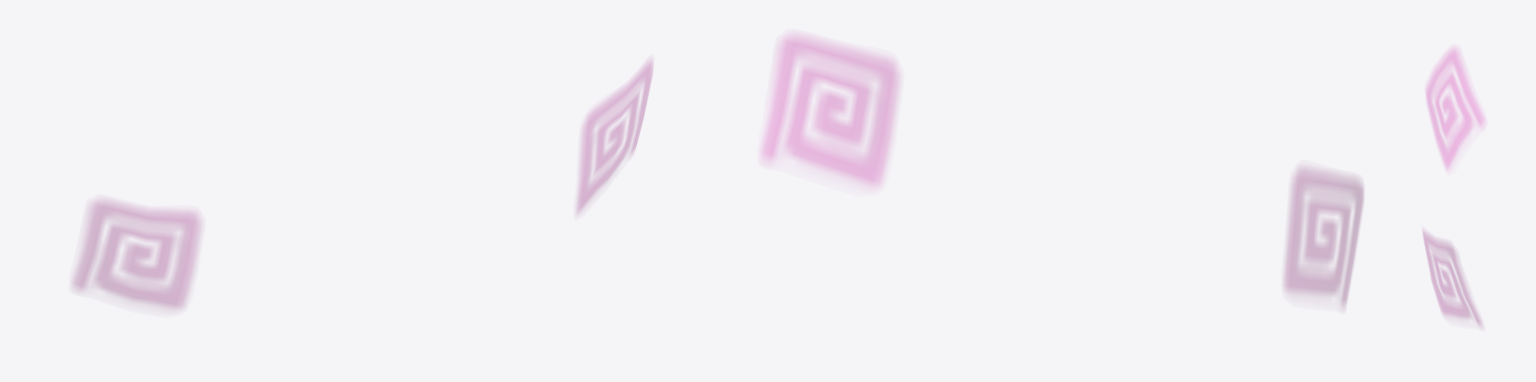
The model's file is Cheeks 8.glb.
The picture shows the model from 3 angles, left to right: view 1: azimuth 30°, elevation 25°; view 2: azimuth 150°, elevation 25°; view 3: azimuth 270°, elevation 25°; orthographic projection. The views are drawn at different scales.
Parts seen in each view (by area): view 1: Cheeks_8; view 2: Cheeks_8; view 3: Cheeks_8.
Boxes of the visible parts, left/top/right/bottom form: Cheeks_8: left=73, top=61, right=652, bottom=309; Cheeks_8: left=762, top=36, right=1363, bottom=305; Cheeks_8: left=1423, top=49, right=1483, bottom=325.
Size of the model in its own units: 0.00587 by 0.00202 by 0.00121.
Materials: 1 (1 with a texture image).
